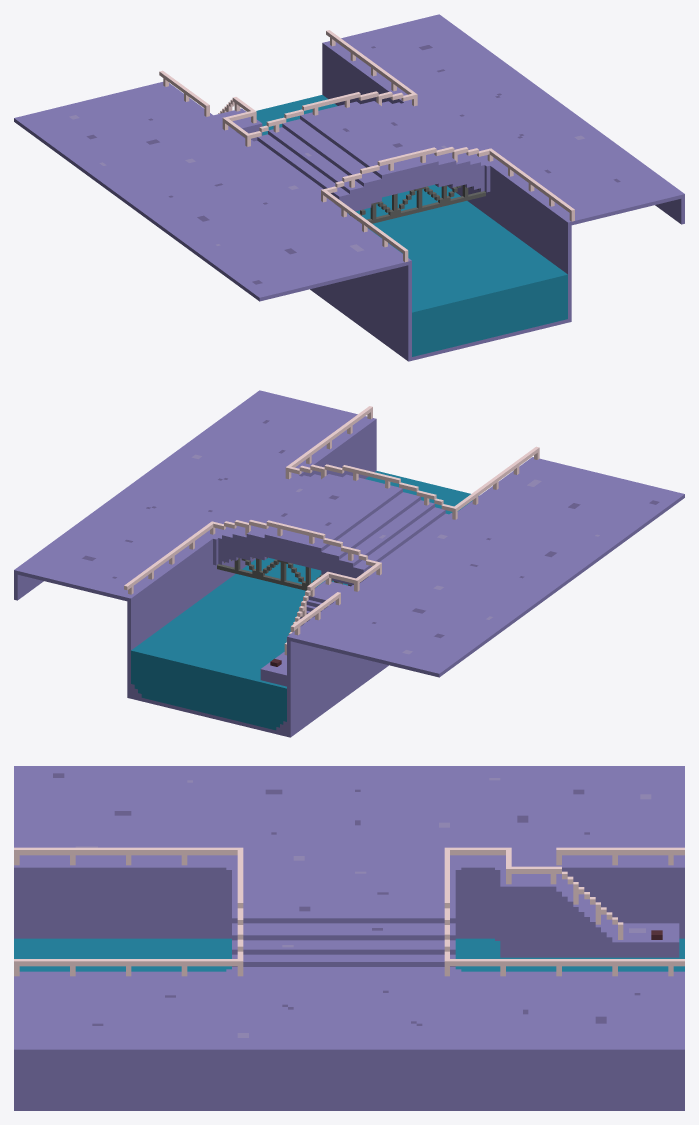
File: map2.obj
3 renders of one model, top to bottom at view 1: azimuth 30°, elevation 25°; view 2: azimuth 150°, elevation 25°; view 3: azimuth 270°, elevation 25°, orthographic. The views are drawn at different scales.
Parts seen in each view (by area): view 1: map2; view 2: map2; view 3: map2.
Boxes of the visible parts, x1,y1,x2,y2 form: map2: (14,14,684,361); map2: (14,390,684,737); map2: (14,766,684,1110).
Size of the model in its own units: 120 by 34 by 120.
Materials: 1 (1 with a texture image).
